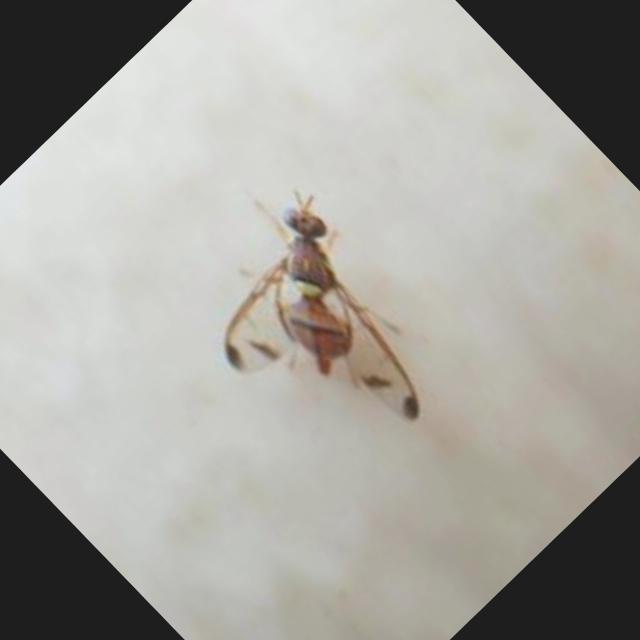melon fly: (122, 86, 534, 500)
